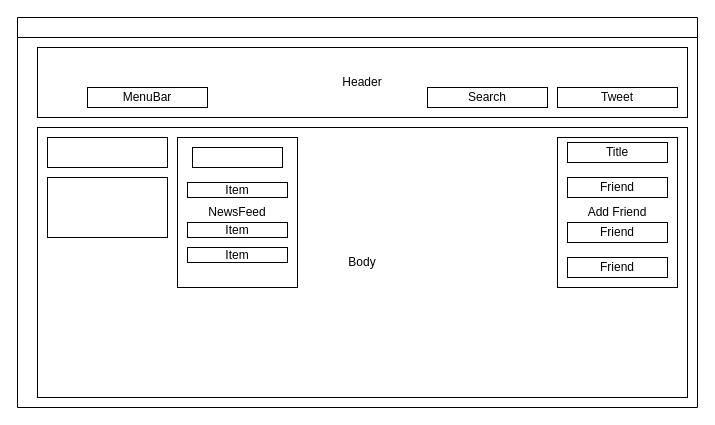
This 715x425 diagram has some shape labels left out. Each missing label, with the centre of its shape:
"Bio" goes at point 107,207.
"Profile" goes at point 107,152.
"SearchBar" goes at point 237,157.
